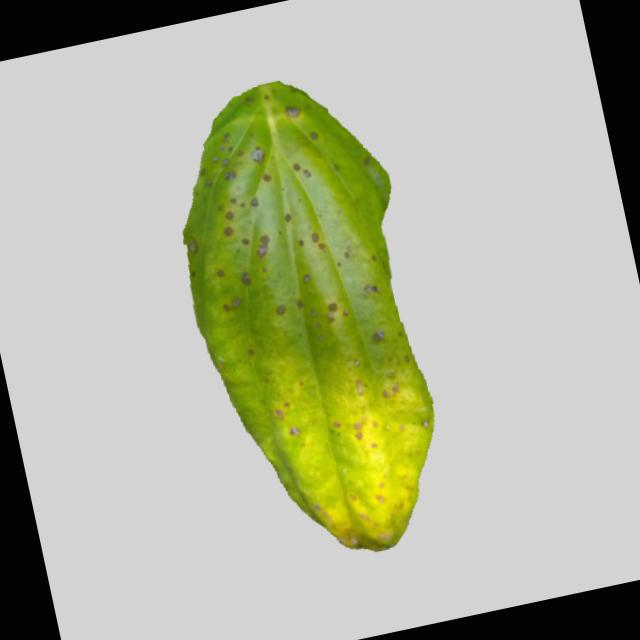yellow-mottle-virus: (117, 56, 472, 586)
